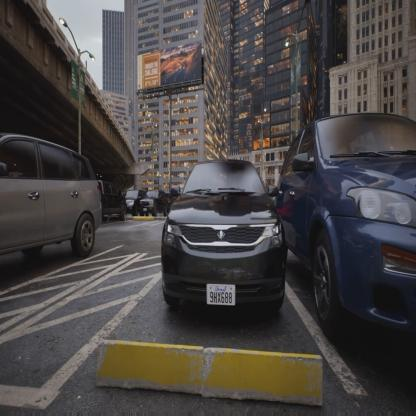License-Plate: (201, 274, 241, 312)
